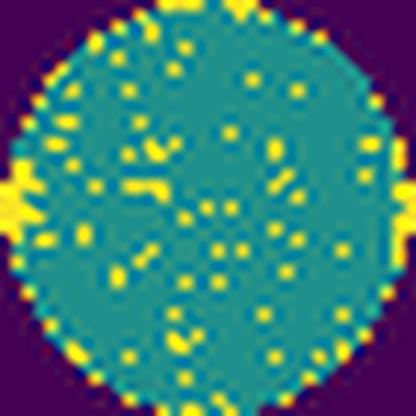Edge-Loc: (0, 152, 47, 252), (385, 177, 416, 271), (220, 0, 255, 21)
